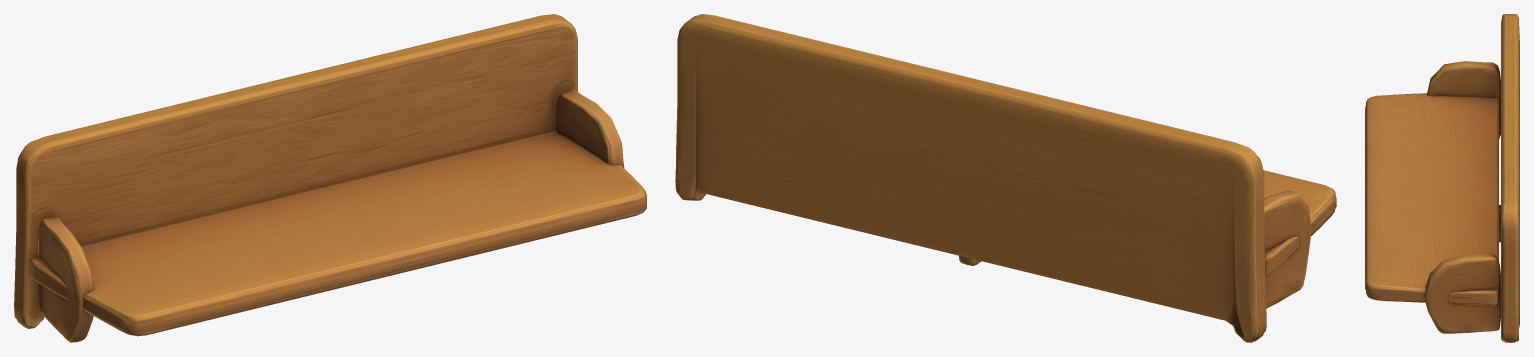
Rendered from SM_WallDecor_WoodShelf_01.glb.
3 renders of one model, left to right at view 1: azimuth 30°, elevation 25°; view 2: azimuth 150°, elevation 25°; view 3: azimuth 270°, elevation 25°, orthographic. The views are drawn at different scales.
Parts seen in each view (by area): view 1: tripo_node_f653c4df-cf8a-429a-aa9b-7ffcbed7e83a; view 2: tripo_node_f653c4df-cf8a-429a-aa9b-7ffcbed7e83a; view 3: tripo_node_f653c4df-cf8a-429a-aa9b-7ffcbed7e83a.
Part boxes in pixels (x1,y1,x2,y2): tripo_node_f653c4df-cf8a-429a-aa9b-7ffcbed7e83a: [14, 14, 646, 342]; tripo_node_f653c4df-cf8a-429a-aa9b-7ffcbed7e83a: [675, 14, 1336, 342]; tripo_node_f653c4df-cf8a-429a-aa9b-7ffcbed7e83a: [1365, 14, 1519, 342].
Size of the model in its own units: 0.998 by 0.3105 by 0.3184.
1 material, 1 textured.
